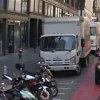Motorcycle: (3, 60, 64, 100)
